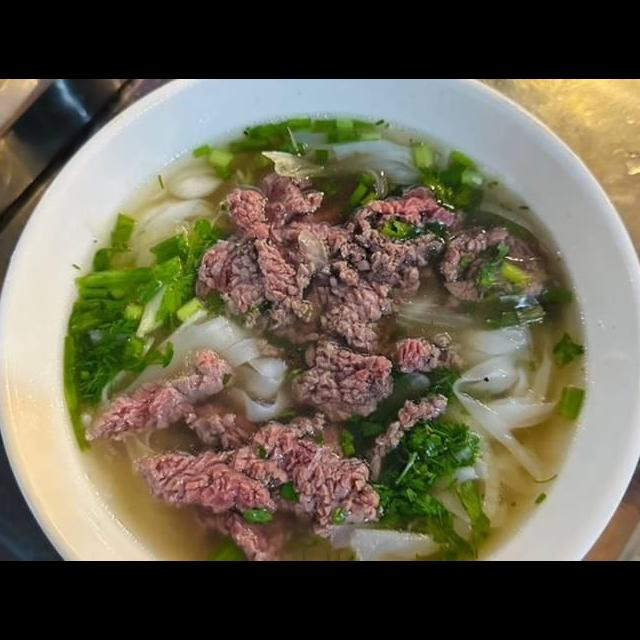banh pho: (121, 307, 298, 427), (455, 321, 558, 478), (112, 192, 230, 277), (328, 136, 420, 182)
pho bo: (52, 107, 640, 561)
thit bo: (191, 217, 452, 356), (232, 407, 388, 542), (72, 340, 242, 448), (128, 442, 294, 519), (435, 221, 555, 314), (335, 183, 475, 261), (290, 337, 400, 429), (358, 385, 452, 489), (214, 170, 331, 253), (207, 492, 314, 561)
